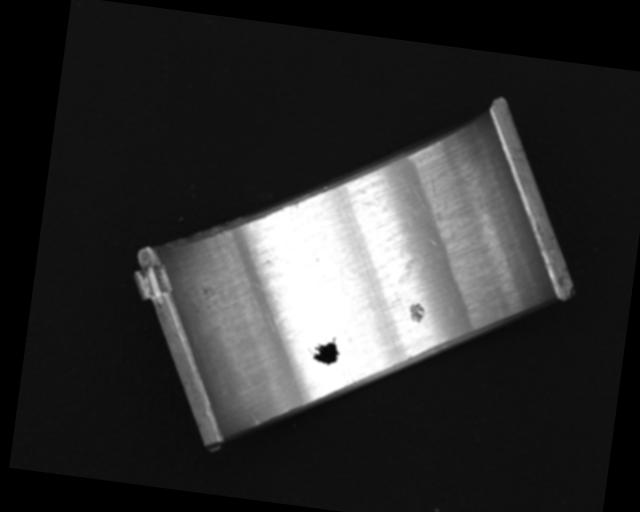blot: (304, 333, 341, 366)
bruise: (405, 300, 427, 324)
nick: (248, 412, 260, 427)
